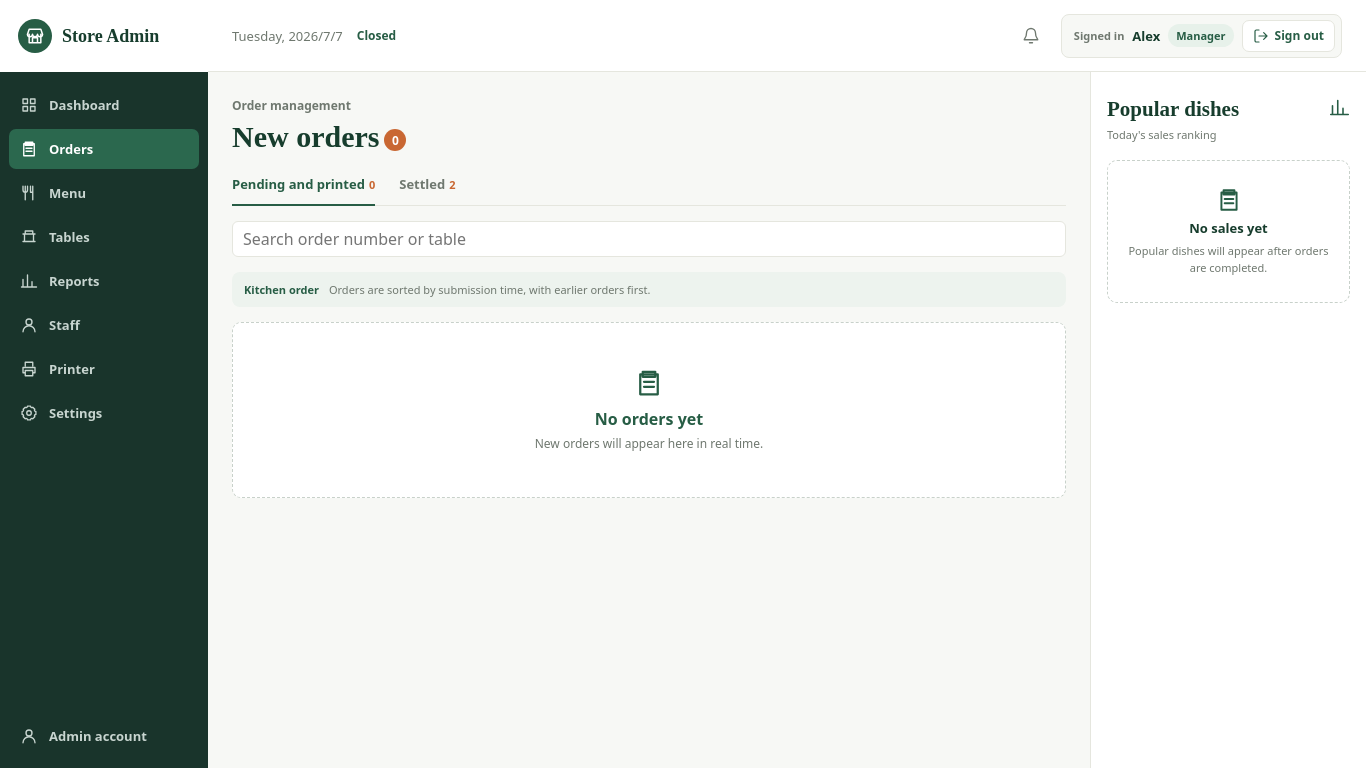
Scenario: AdminApp auth permissions › only shows settlement reversal for managers on the Hong Kong settlement date
Click the button "Settled2" at (427, 190), box left=399, top=175, right=456, bottom=205
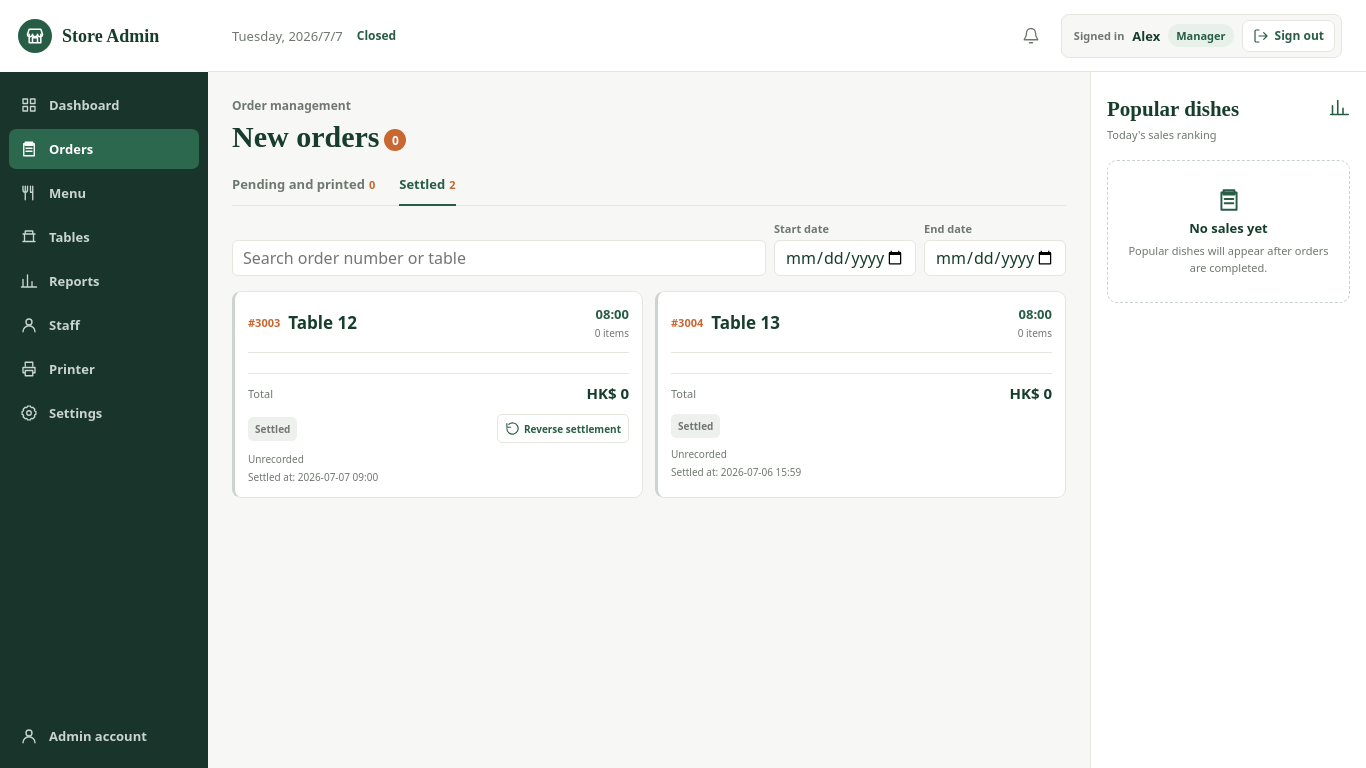
Expected: the number of buttons "Reverse settlement" is 1, left=497, top=414, right=629, bottom=443
